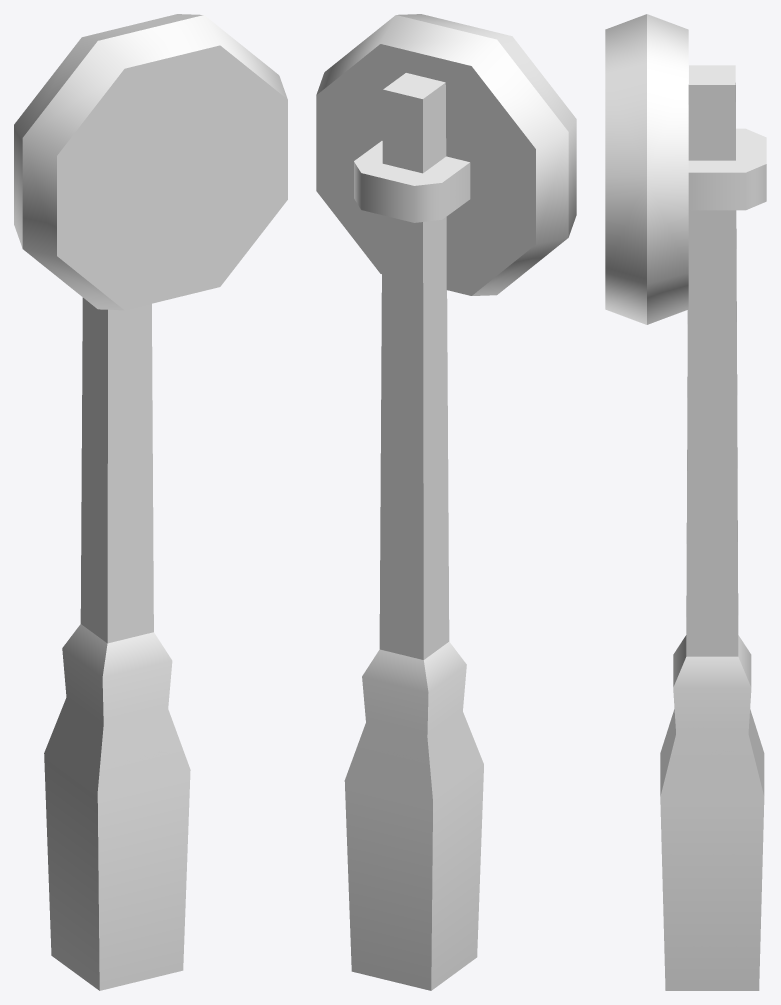
File: road-sign-stop.glb
3 renders of one model, left to right at view 1: azimuth 30°, elevation 25°; view 2: azimuth 150°, elevation 25°; view 3: azimuth 270°, elevation 25°, orthographic. The views are drawn at different scales.
Visible parts, largest first — view 1: road-sign-stop; view 2: road-sign-stop; view 3: road-sign-stop.
Part boxes in pixels (bbox=[...]): road-sign-stop: bbox=[14, 14, 287, 990]; road-sign-stop: bbox=[316, 14, 576, 990]; road-sign-stop: bbox=[605, 14, 766, 990].
Size of the model in its own units: 0.5875 by 2.1 by 0.3294.
1 material, 1 textured.
